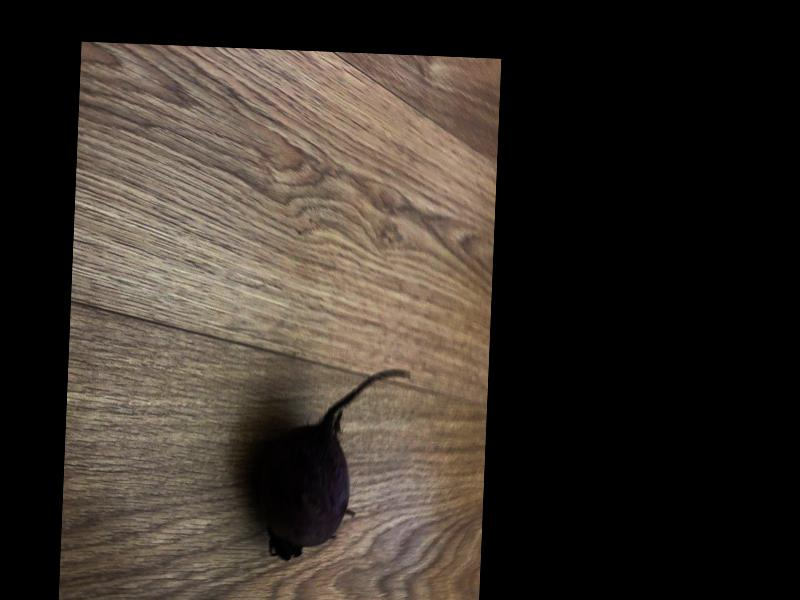Beet: (255, 360, 410, 561)
